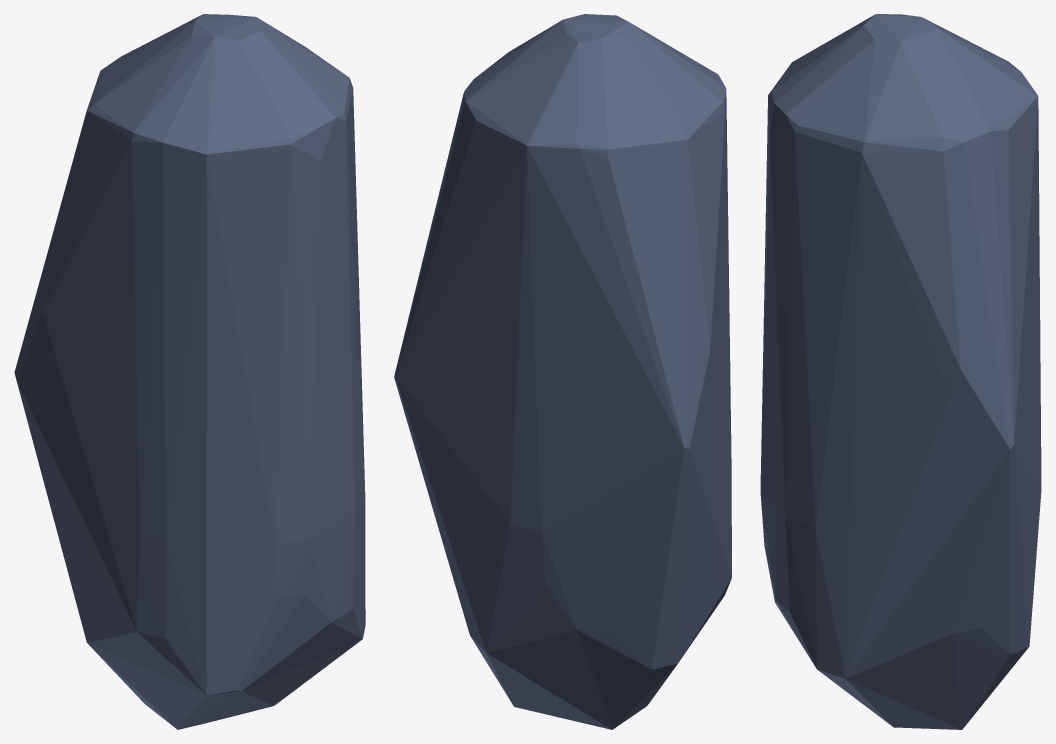
Rendered from creature_smear_scarecrow.glb.
The picture shows the model from 3 angles, left to right: view 1: azimuth 30°, elevation 25°; view 2: azimuth 150°, elevation 25°; view 3: azimuth 270°, elevation 25°; orthographic projection. The views are drawn at different scales.
Visible parts, largest first — view 1: Smear; view 2: Smear; view 3: Smear.
Part boxes in pixels (box(x1,y1,x2,y2)): Smear: box(14, 14, 365, 729); Smear: box(394, 14, 731, 729); Smear: box(760, 14, 1041, 729).
Size of the model in its own units: 1.02 by 2.23 by 0.8342.
